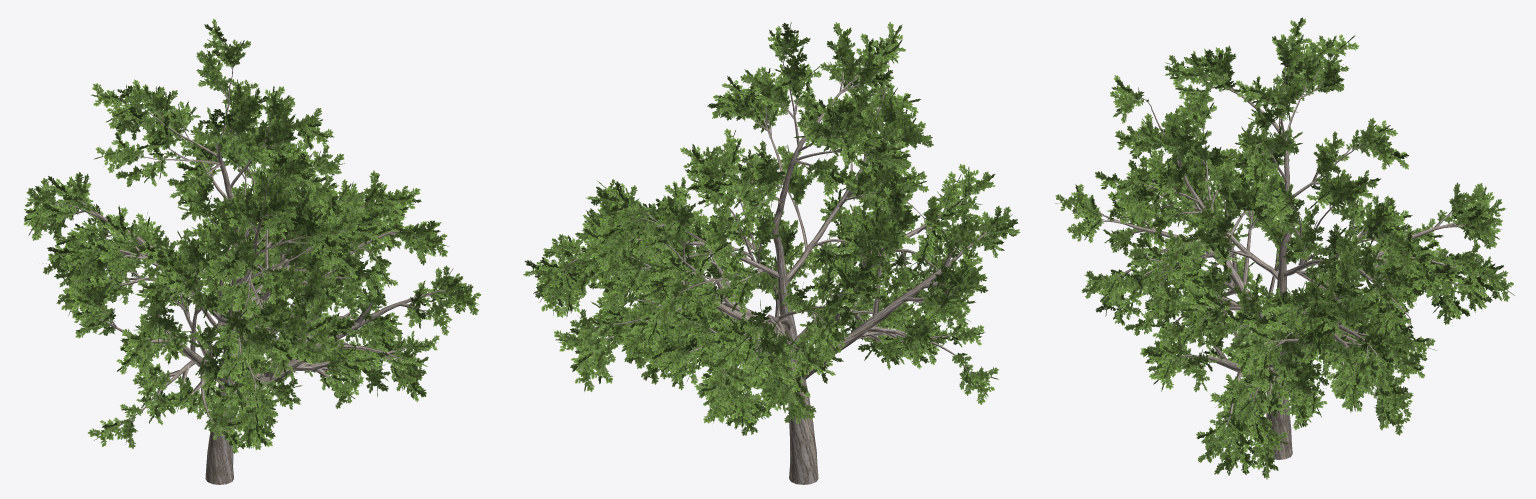
Rendered from OakVeteran.glb.
3 renders of one model, left to right at view 1: azimuth 30°, elevation 25°; view 2: azimuth 150°, elevation 25°; view 3: azimuth 270°, elevation 25°, orthographic. The views are drawn at different scales.
Parts seen in each view (by area): view 1: OakVeteran canopy, OakVeteran trunk; view 2: OakVeteran canopy, OakVeteran trunk; view 3: OakVeteran canopy, OakVeteran trunk.
Part boxes in pixels (x1,y1,x2,y2): OakVeteran canopy: (23, 18, 481, 453); OakVeteran trunk: (52, 65, 449, 484); OakVeteran canopy: (523, 21, 1020, 435); OakVeteran trunk: (561, 44, 994, 484); OakVeteran canopy: (1055, 17, 1514, 479); OakVeteran trunk: (1090, 58, 1482, 459).
Size of the model in its own units: 17.3 by 18.5 by 17.77.
2 materials, 2 textured.
